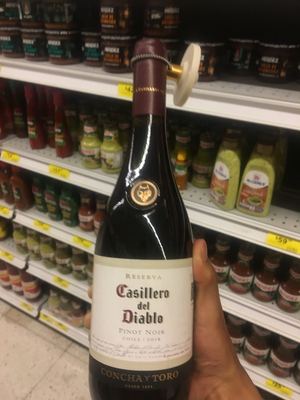casillero del diablo pinot noir: (90, 50, 204, 400)
